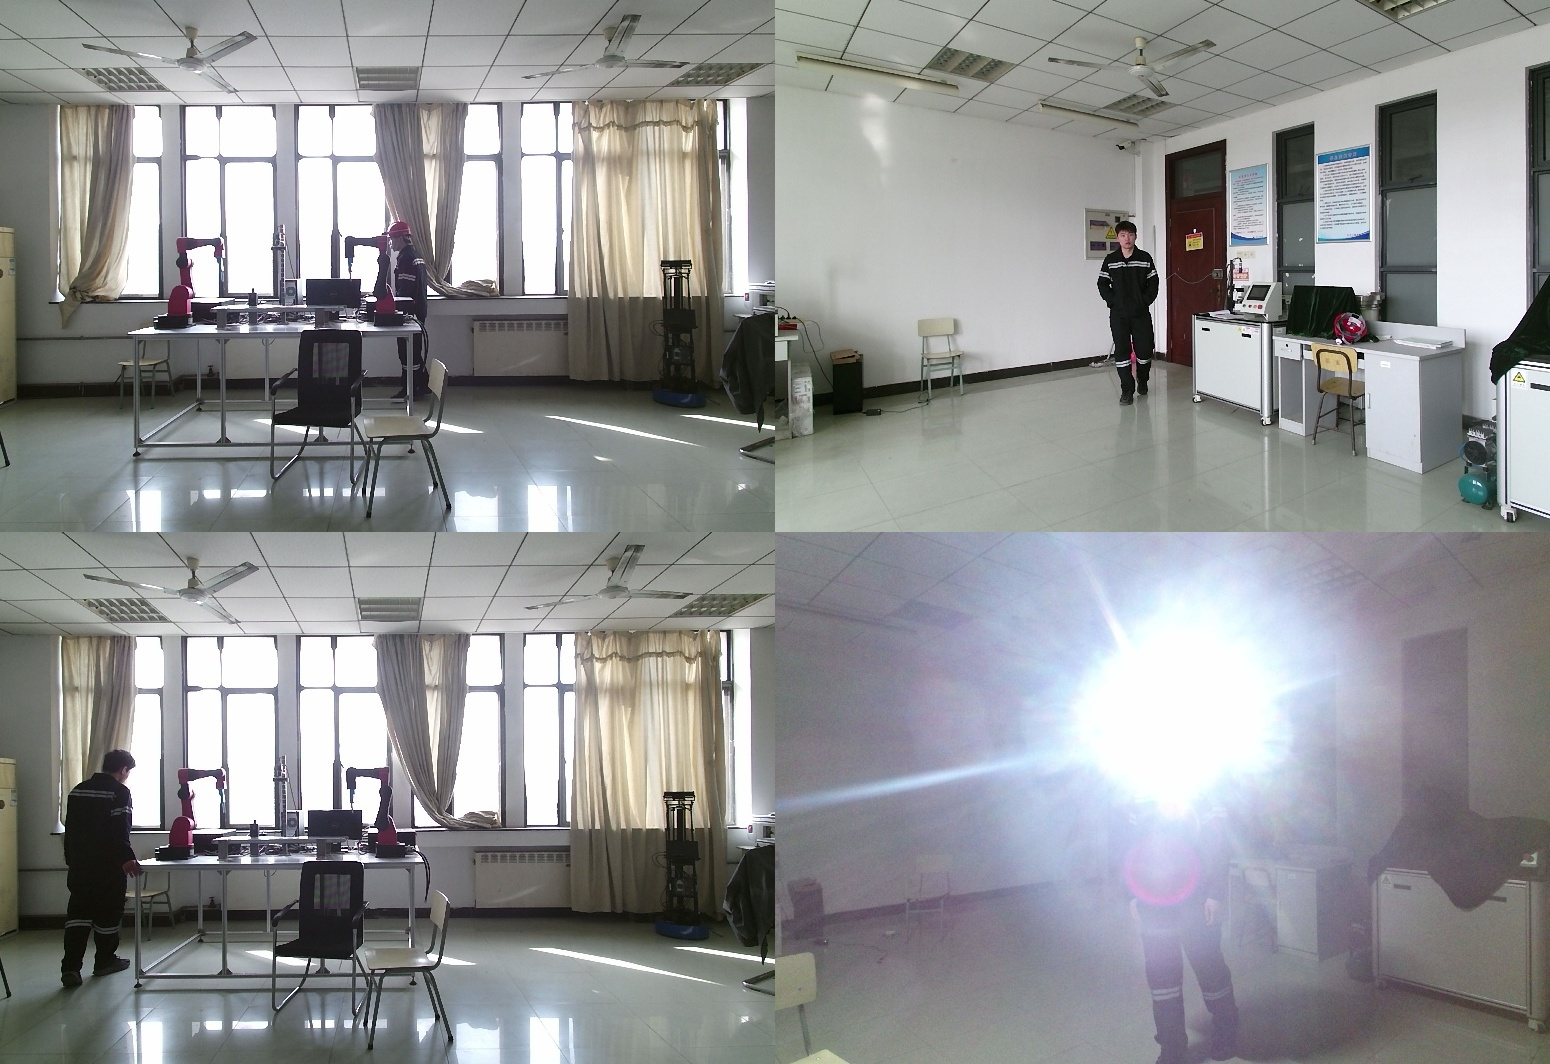person: (1125, 708, 1249, 1064), (56, 749, 143, 985), (1096, 224, 1162, 410), (383, 220, 428, 402)
